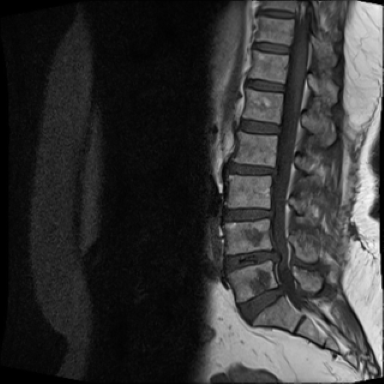Degenerative Disc Disease (DDD): (253, 5, 300, 22)
Lumbar Disc Bulge (LDB): (232, 281, 289, 333), (220, 241, 283, 278), (214, 202, 276, 225), (221, 159, 281, 181)
Normal IVD: (233, 112, 283, 139), (238, 74, 288, 96), (248, 38, 293, 58)
Spinal Stenosis (SS): (268, 278, 290, 302), (265, 246, 284, 266), (262, 161, 281, 181), (261, 202, 276, 225)
